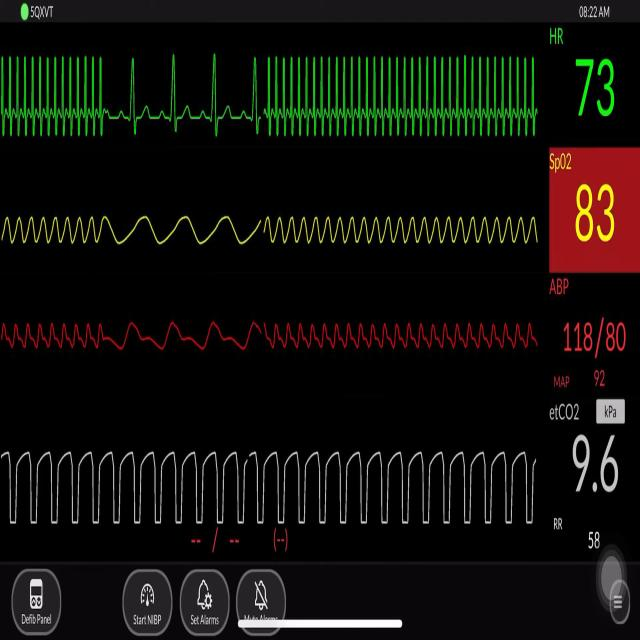danger: (262, 40, 540, 151), (4, 43, 110, 150)
